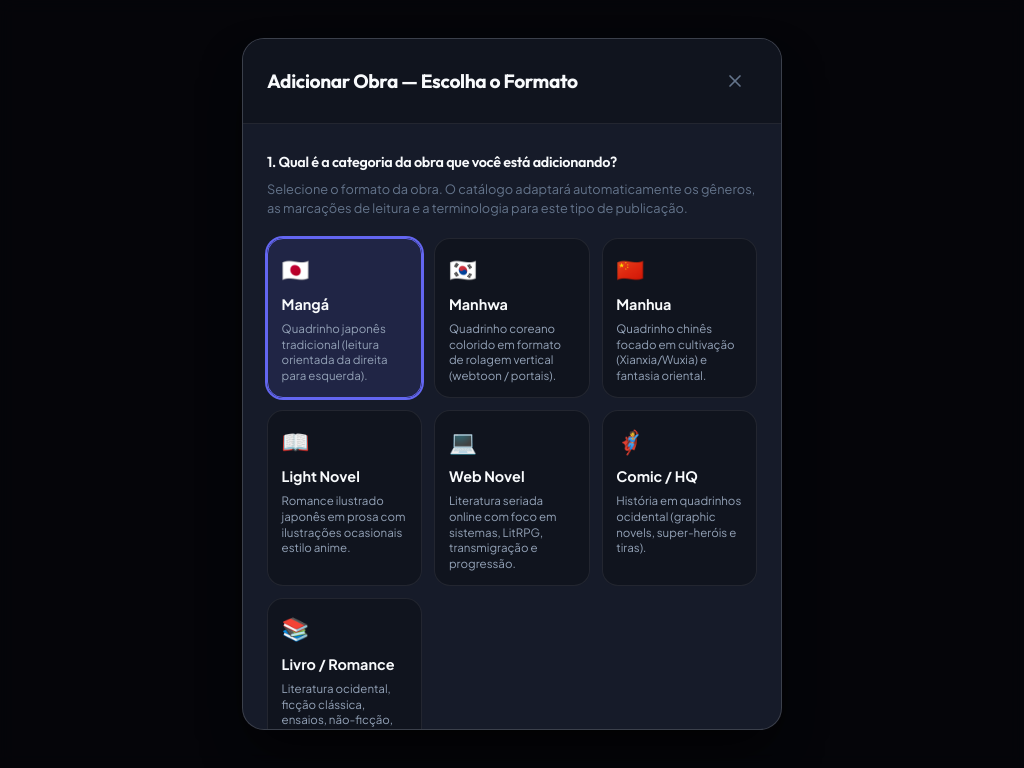
AddWorkToShelfModal - Fluxo Unificado de Adição e Proposta › exibe primeiro o seletor de formato e avança para o formulário ao escolher um formato
The width and height of the screenshot is (1024, 768).
Check: the heading "Adicionar Obra — Escolha o Formato" is shown, box [267, 69, 578, 94]
Check: the heading "1. Qual é a categoria da obra que você está adicionando?" is shown, box [267, 153, 617, 171]
// Clica no card Mangá para ir ao formulário
Click the button "Mangá": (345, 318) [267, 238, 422, 398]
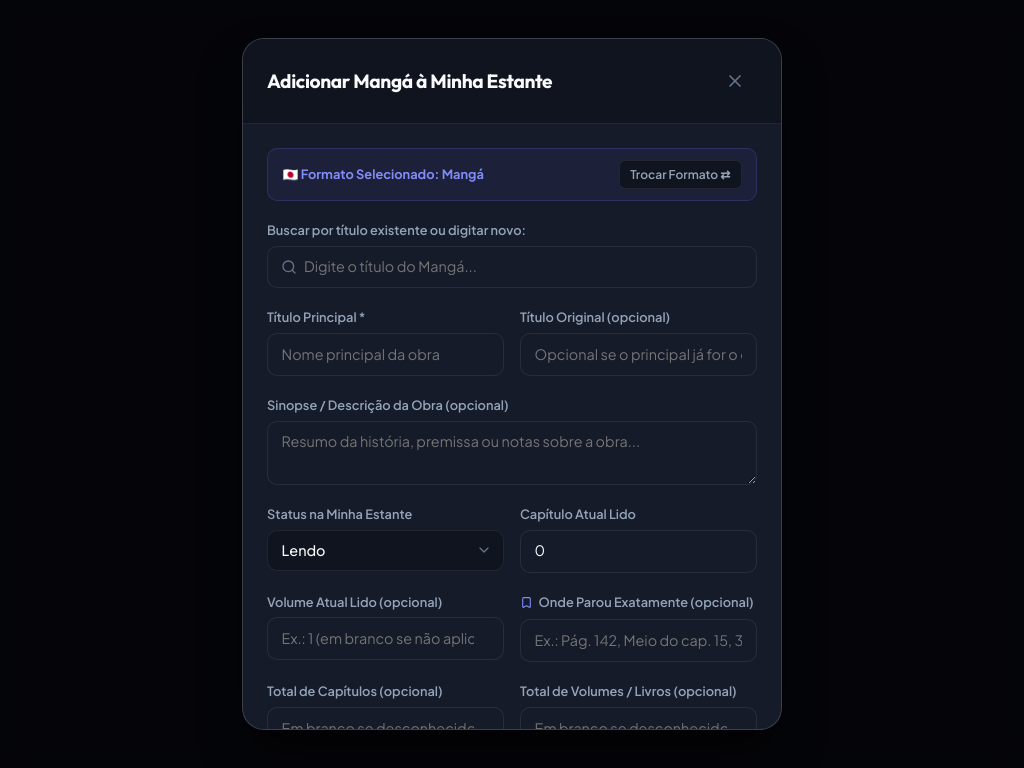
Check: the text "🇯🇵 Formato Selecionado: Mangá" is shown, box [282, 165, 484, 184]
Check: the field labelled "Título Principal *" is shown, box [267, 333, 504, 376]
// Botão de trocar formato permite voltar ao passo 1
Click the button with aria-label "trocar formato da obra": (680, 175) [619, 160, 742, 189]
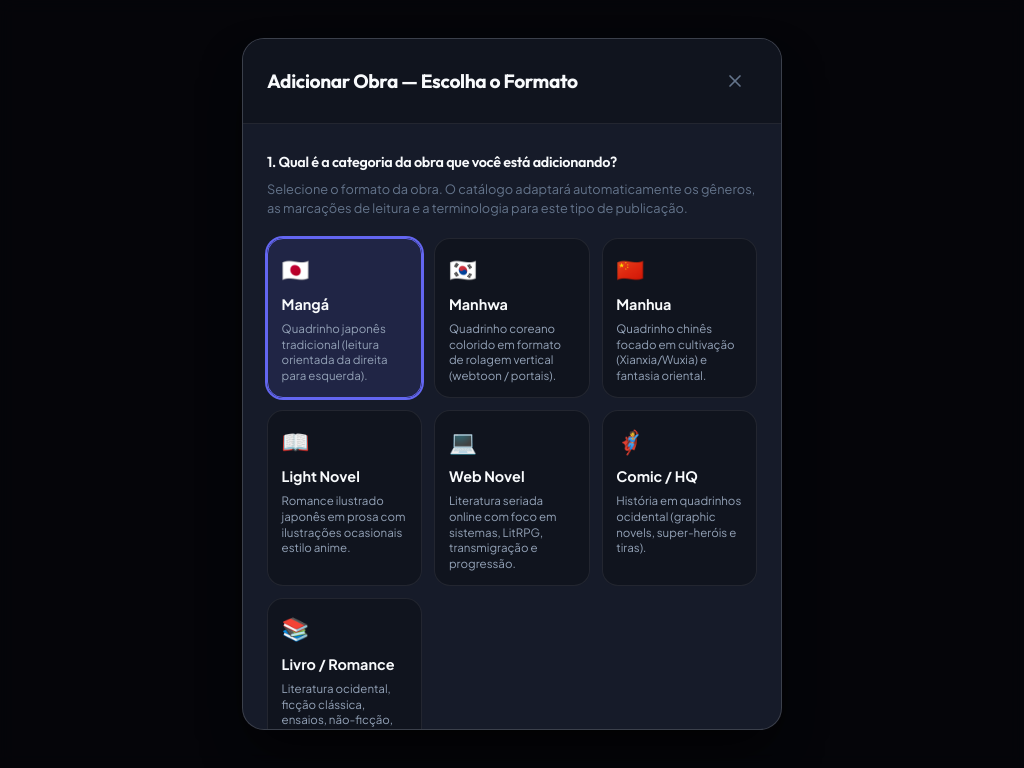
Check: the heading "Adicionar Obra — Escolha o Formato" is shown, box [267, 69, 578, 94]
